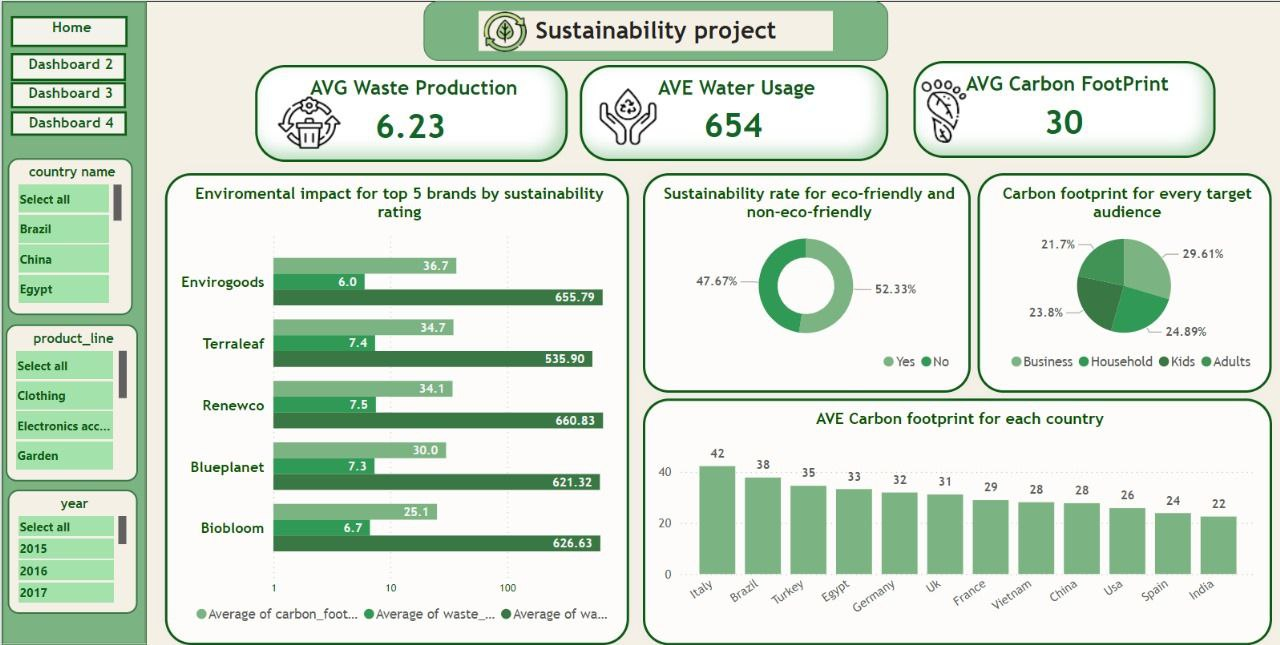

Layout of this report page (visuals, bound fields, positions):
{"tool":"powerbi","page":{"name":"Dashboard1 ","canvas":[1280,720],"ordinal":1},"visuals":[{"type":"shape","box":[0,0,145,643],"z":0},{"type":"card","title":"AVE Water Usage","fields":{"Values":["Avg(Sustainability_Fact.water_usage)"]},"box":[577,64,308,96],"z":1000},{"type":"card","title":"AVG Waste Production","fields":{"Values":["Avg(Sustainability_Fact.waste_production)"]},"box":[253,64,312,97],"z":2000},{"type":"card","title":"AVG Carbon FootPrint","fields":{"Values":["Avg(Sustainability_Fact.carbon_footprint)"]},"box":[910,60,302,97],"z":3000},{"type":"clusteredColumnChart","title":"AVE Carbon footprint for each country","fields":{"Category":["Country_dim.country_name"],"Y":["Avg(Sustainability_Fact.carbon_footprint)"]},"box":[640,397,628,246],"z":4000},{"type":"clusteredBarChart","title":" Enviromental impact for top 5 brands by sustainability rating","fields":{"Category":["Brand_dim.brand_name"],"Y":["Avg(Sustainability_Fact.carbon_footprint)","Avg(Sustainability_Fact.waste_production)","Avg(Sustainability_Fact.water_usage)"]},"box":[163,172,463,471],"z":5000},{"type":"donutChart","title":"Sustainability rate for eco-friendly and non-eco-friendly","fields":{"Category":["Sustainability_Fact.eco_friendly_manufacturing"],"Y":["CountNonNull(Sustainability_Fact.eco_friendly_manufacturing)"]},"box":[640,172,327,219],"z":6000},{"type":"pieChart","title":"Carbon footprint for every target audience","fields":{"Y":["Avg(Sustainability_Fact.carbon_footprint)"],"Category":["Product_Category_dim.target_audience"]},"box":[974,172,294,219],"z":7000},{"type":"image","box":[900,68,81,84],"z":8000},{"type":"image","box":[271,84,72,75],"z":9000},{"type":"image","box":[586,77,79,77],"z":10000},{"type":"shape","box":[421.2,0,463.8,60],"z":11000},{"type":"textbox","box":[476.2,10,353.8,40],"z":12000},{"type":"actionButton","title":"Dashboard 2","box":[9,52,115,28],"z":13000},{"type":"actionButton","title":"Dashboard 3","box":[9,81,115,26],"z":14000},{"type":"actionButton","title":"Dashboard 4","box":[9,110,116,25],"z":15000},{"type":"actionButton","title":"Home","box":[9,15,117,31],"z":16000},{"type":"image","box":[476.5,5.9,52.9,50.6],"z":17000},{"type":"listSlicer","title":"country name","fields":{"Values":["Country_dim.country_name"]},"box":[6,157,125,157],"z":18000},{"type":"listSlicer","fields":{"Values":["Sustainability_Fact.product_line"]},"box":[4,323,132,157],"z":19000},{"type":"listSlicer","fields":{"Values":["Year_dim.year"]},"box":[6,488,130,124],"z":20000}]}

Visuals, with their boxes on the page's 1280x720 design canvas (x1, y1, x2, y2). These are canvas units, not pixel positions in the 1280x645 screenshot, which may show the page scaled, cropped or inside an application window:
shape: {"x1": 0, "y1": 0, "x2": 145, "y2": 643}
"AVE Water Usage" card: {"x1": 577, "y1": 64, "x2": 885, "y2": 160}
"AVG Waste Production" card: {"x1": 253, "y1": 64, "x2": 565, "y2": 161}
"AVG Carbon FootPrint" card: {"x1": 910, "y1": 60, "x2": 1212, "y2": 157}
"AVE Carbon footprint for each country" clusteredColumnChart: {"x1": 640, "y1": 397, "x2": 1268, "y2": 643}
" Enviromental impact for top 5 brands by sustainability rating" clusteredBarChart: {"x1": 163, "y1": 172, "x2": 626, "y2": 643}
"Sustainability rate for eco-friendly and non-eco-friendly" donutChart: {"x1": 640, "y1": 172, "x2": 967, "y2": 391}
"Carbon footprint for every target audience" pieChart: {"x1": 974, "y1": 172, "x2": 1268, "y2": 391}
image: {"x1": 900, "y1": 68, "x2": 981, "y2": 152}
image: {"x1": 271, "y1": 84, "x2": 343, "y2": 159}
image: {"x1": 586, "y1": 77, "x2": 665, "y2": 154}
shape: {"x1": 421, "y1": 0, "x2": 885, "y2": 60}
textbox: {"x1": 476, "y1": 10, "x2": 830, "y2": 50}
"Dashboard 2" actionButton: {"x1": 9, "y1": 52, "x2": 124, "y2": 80}
"Dashboard 3" actionButton: {"x1": 9, "y1": 81, "x2": 124, "y2": 107}
"Dashboard 4" actionButton: {"x1": 9, "y1": 110, "x2": 125, "y2": 135}
"Home" actionButton: {"x1": 9, "y1": 15, "x2": 126, "y2": 46}
image: {"x1": 476, "y1": 6, "x2": 529, "y2": 56}
"country name" listSlicer: {"x1": 6, "y1": 157, "x2": 131, "y2": 314}
listSlicer - Sustainability_Fact.product_line: {"x1": 4, "y1": 323, "x2": 136, "y2": 480}
listSlicer - Year_dim.year: {"x1": 6, "y1": 488, "x2": 136, "y2": 612}
